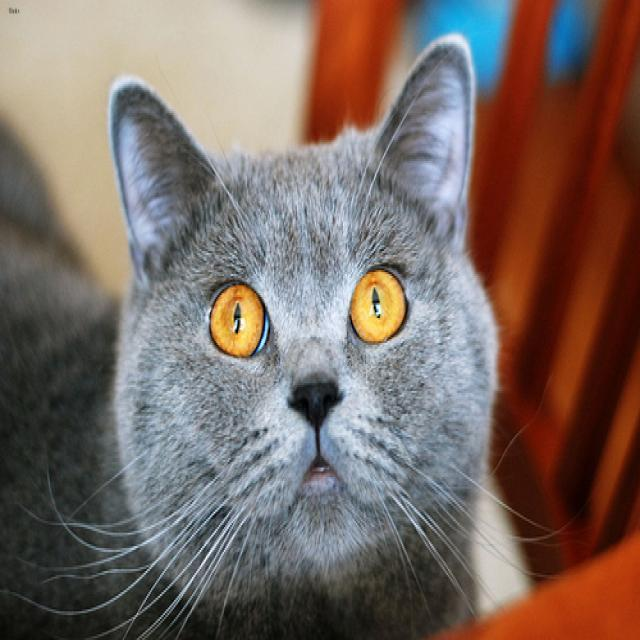British_Shorthair: (104, 30, 506, 619)
